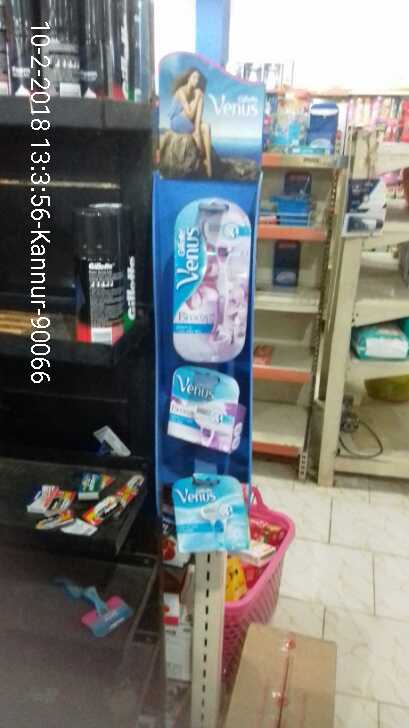venus: (168, 201, 245, 359), (164, 368, 250, 450), (176, 473, 255, 557)
